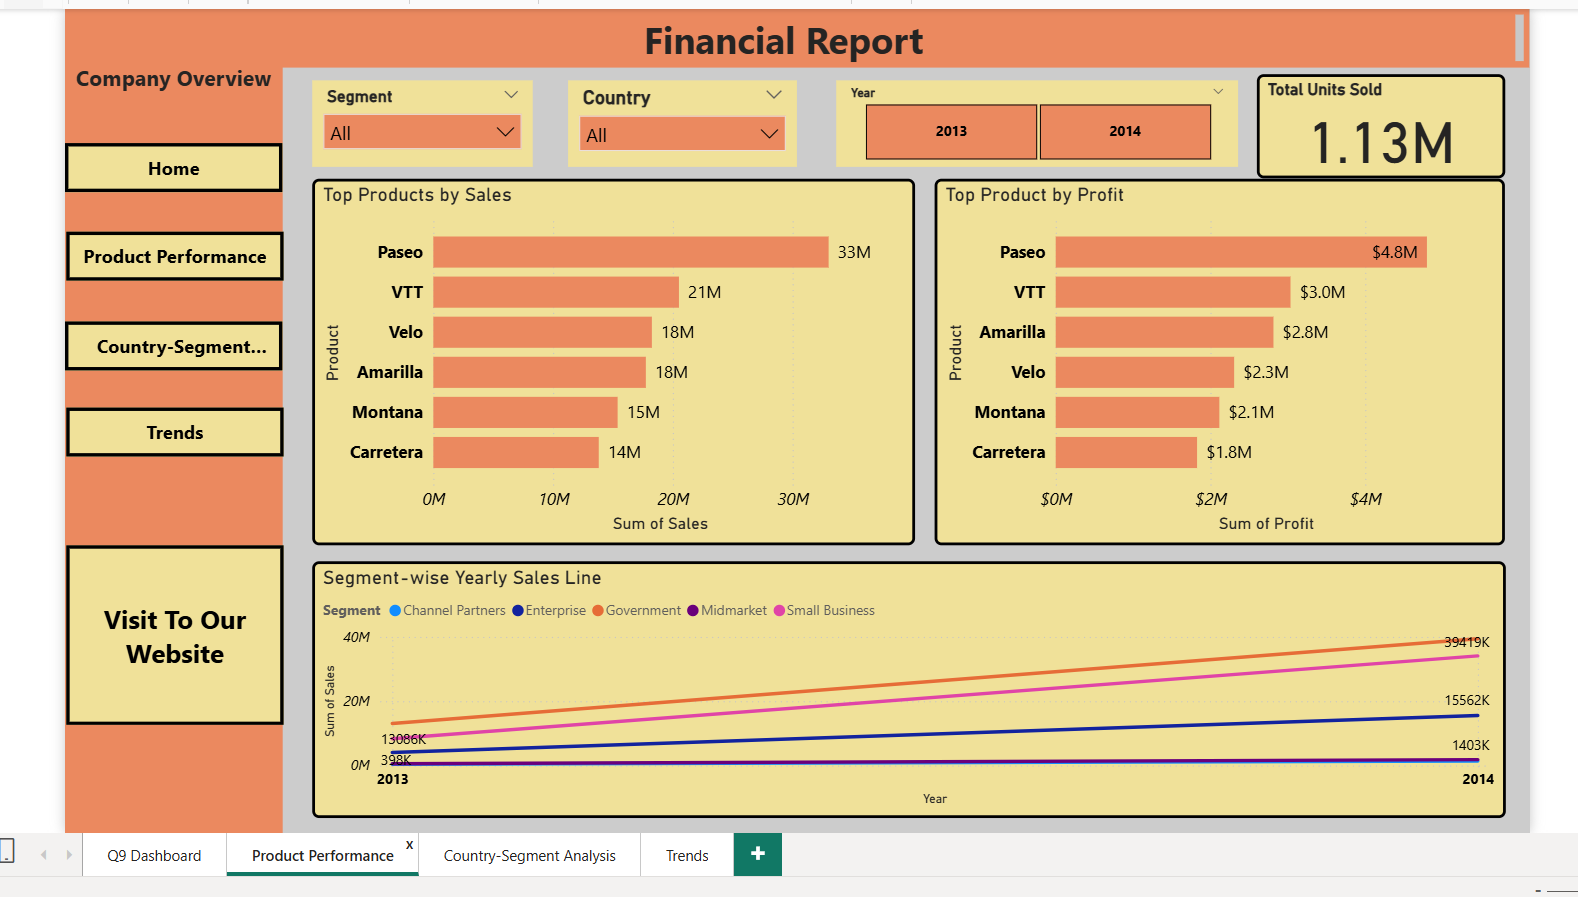

Layout of this report page (visuals, bound fields, positions):
{"tool":"powerbi","page":{"name":"Product Performance","canvas":[1280,720],"ordinal":1},"visuals":[{"type":"textbox","box":[0,0,1280,51.4],"z":0},{"type":"textbox","box":[0,41.4,190,678.6],"z":1000},{"type":"actionButton","box":[0,117.1,190,42.9],"z":2000},{"type":"actionButton","box":[0,272.9,190,42.9],"z":3000},{"type":"actionButton","box":[1.4,194.3,190,42.9],"z":4000},{"type":"actionButton","box":[1.4,348.6,190,42.9],"z":5000},{"type":"barChart","title":"Top Products by Sales","fields":{"Category":["financials.Product"],"Y":["Sum(financials. Sales)"]},"box":[215.7,148.6,527.1,320],"z":6000},{"type":"slicer","fields":{"Values":["financials.Segment"]},"box":[215.7,62.9,192.9,75.7],"z":7000},{"type":"slicer","fields":{"Values":["financials.Country"]},"box":[440,62.9,200,75.7],"z":8000},{"type":"actionButton","box":[1.4,468.6,190,157.1],"z":9000},{"type":"slicer","fields":{"Values":["financials.Date.Variation.Date Hierarchy.Year"]},"box":[674.3,62.9,351.4,75.7],"z":10000},{"type":"barChart","title":"Top Product by Profit","fields":{"Category":["financials.Product"],"Y":["Sum(financials.Profit)"]},"box":[760,148.6,498.6,320],"z":11000},{"type":"card","title":"Total Units Sold","fields":{"Values":["Sum(financials.Units Sold)"]},"box":[1041.4,57.1,217.1,91.4],"z":12000},{"type":"lineChart","title":"Segment-wise Yearly Sales Line","fields":{"Series":["financials.Segment"],"Category":["financials.Date.Variation.Date Hierarchy.Year"],"Y":["Sum(financials. Sales)"]},"box":[215.7,482.9,1042.9,224.3],"z":13000}]}

Visuals, with their boxes on the page's 1280x720 design canvas (x1, y1, x2, y2). These are canvas units, not pixel positions in the 1578x897 screenshot, which may show the page scaled, cropped or inside an application window:
textbox: 0/0/1280/51
textbox: 0/41/190/720
actionButton: 0/117/190/160
actionButton: 0/273/190/316
actionButton: 1/194/191/237
actionButton: 1/349/191/392
"Top Products by Sales" barChart: 216/149/743/469
slicer - financials.Segment: 216/63/409/139
slicer - financials.Country: 440/63/640/139
actionButton: 1/469/191/626
slicer - financials.Date.Variation.Date Hierarchy.Year: 674/63/1026/139
"Top Product by Profit" barChart: 760/149/1259/469
"Total Units Sold" card: 1041/57/1258/148
"Segment-wise Yearly Sales Line" lineChart: 216/483/1259/707
